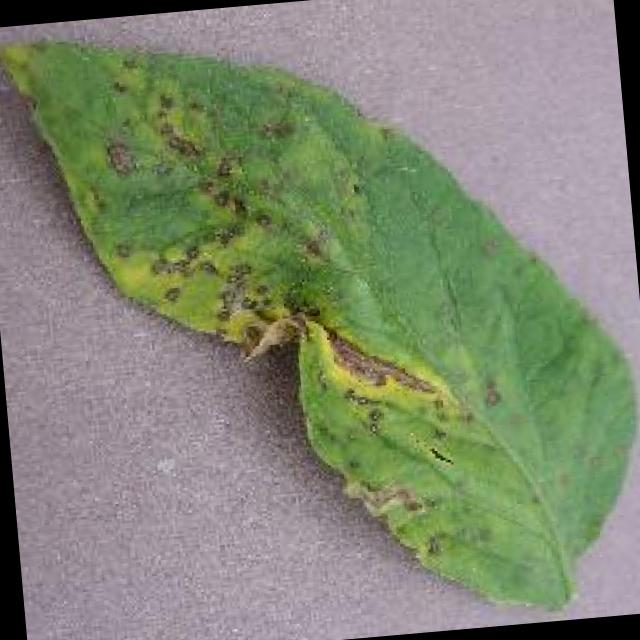leaf_spot: (0, 42, 633, 602)
